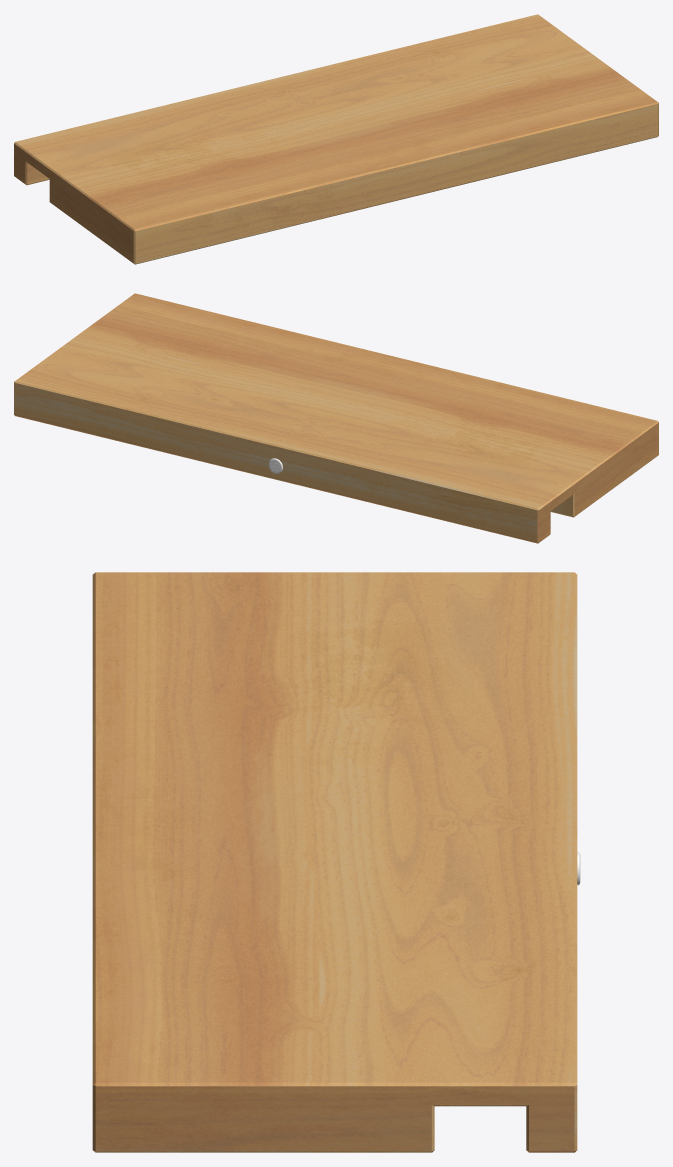
Rendered from obj_simple_shelf_085dca.glb.
3 renders of one model, top to bottom at view 1: azimuth 30°, elevation 25°; view 2: azimuth 150°, elevation 25°; view 3: azimuth 270°, elevation 25°, orthographic. The views are drawn at different scales.
Parts seen in each view (by area): view 1: obj_simple_shelf_085dca; view 2: obj_simple_shelf_085dca; view 3: obj_simple_shelf_085dca.
Boxes of the visible parts, x1,y1,x2,y2 form: obj_simple_shelf_085dca: [14, 14, 658, 264]; obj_simple_shelf_085dca: [14, 293, 658, 543]; obj_simple_shelf_085dca: [92, 572, 580, 1152].
Bounding box in the file's own units: 0.45 × 0.0288 × 0.1808.
2 materials, 2 textured.
